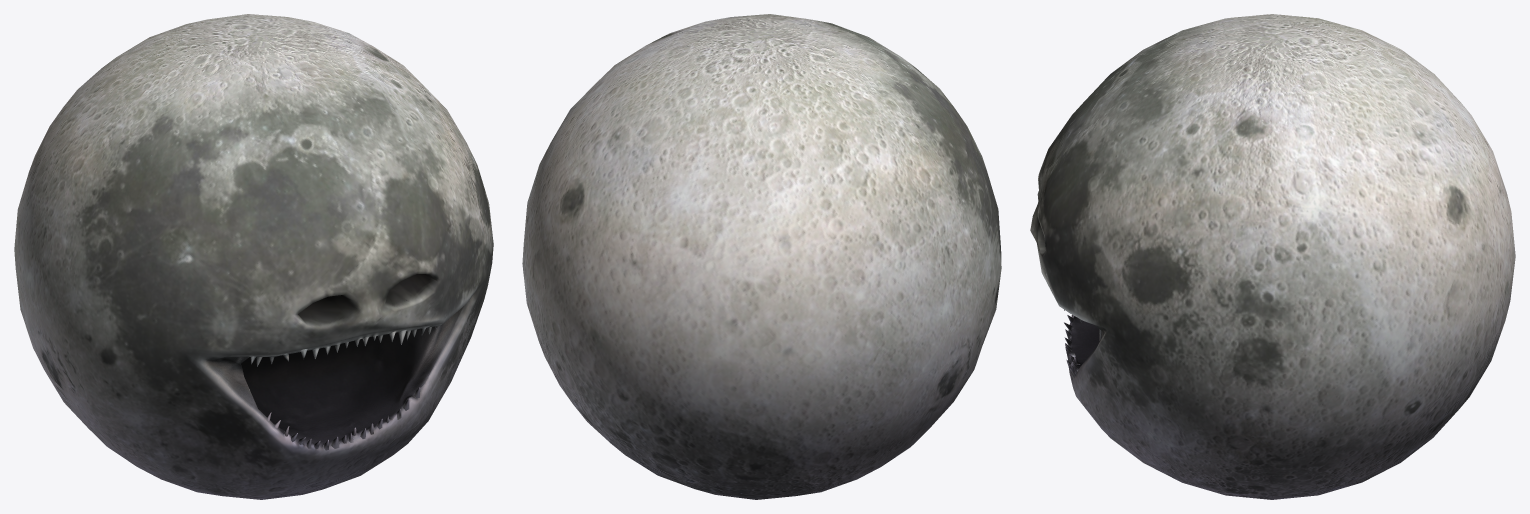
Rendered from Moon_Roblox.fbx.
3 views of the same model, side by side, from view 1: azimuth 30°, elevation 25°; view 2: azimuth 150°, elevation 25°; view 3: azimuth 270°, elevation 25° (orthographic).
Parts seen in each view (by area): view 1: Moon WokeUp; view 2: Moon WokeUp; view 3: Moon WokeUp.
Boxes of the visible parts, <box> form: Moon WokeUp: <box>14,14,493,499</box>; Moon WokeUp: <box>522,14,1001,499</box>; Moon WokeUp: <box>1030,14,1515,499</box>.
Bounding box in the file's own units: 1.98 × 2 × 1.99.
